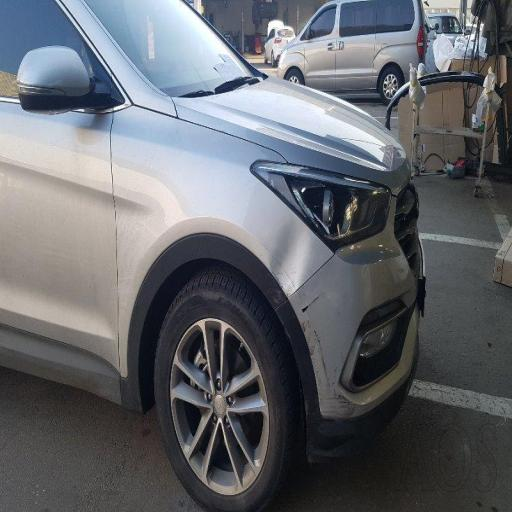scratch: (275, 241, 370, 439)
